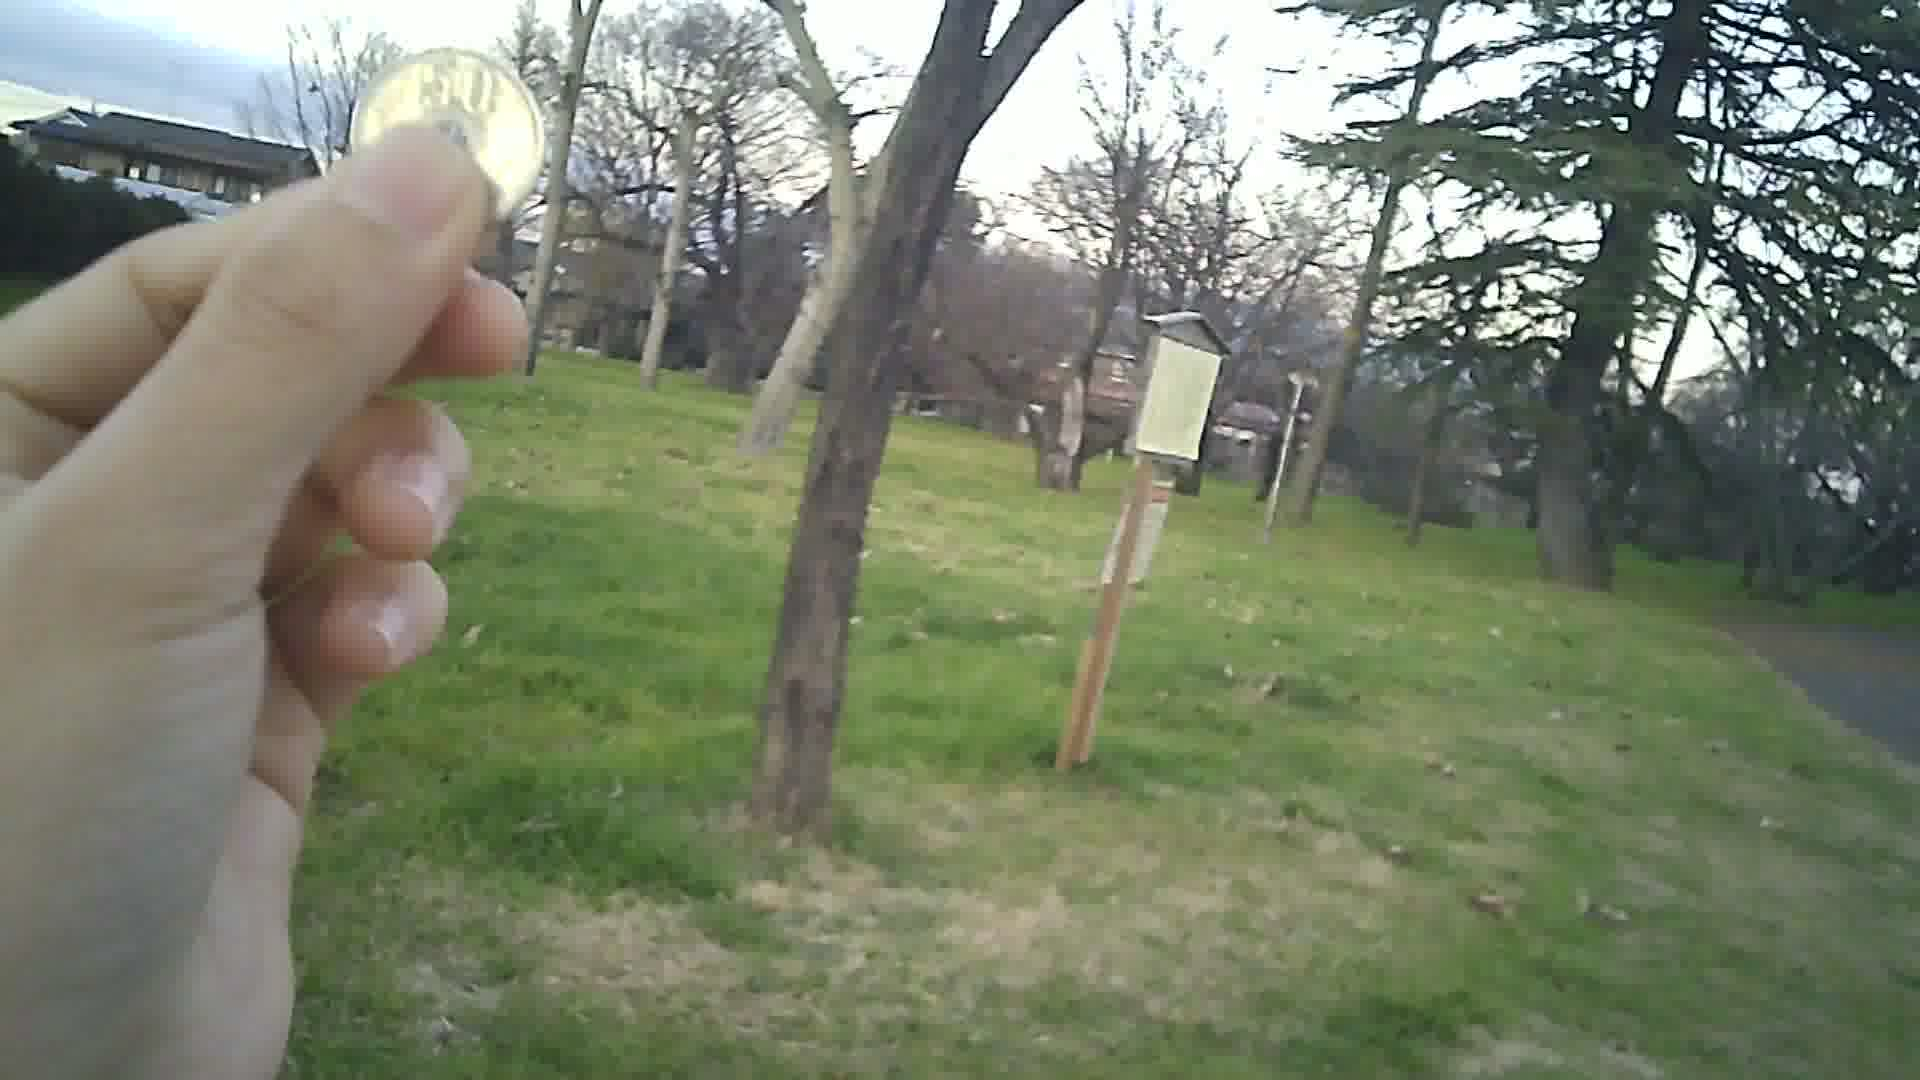50 Yen: (344, 44, 535, 231)
